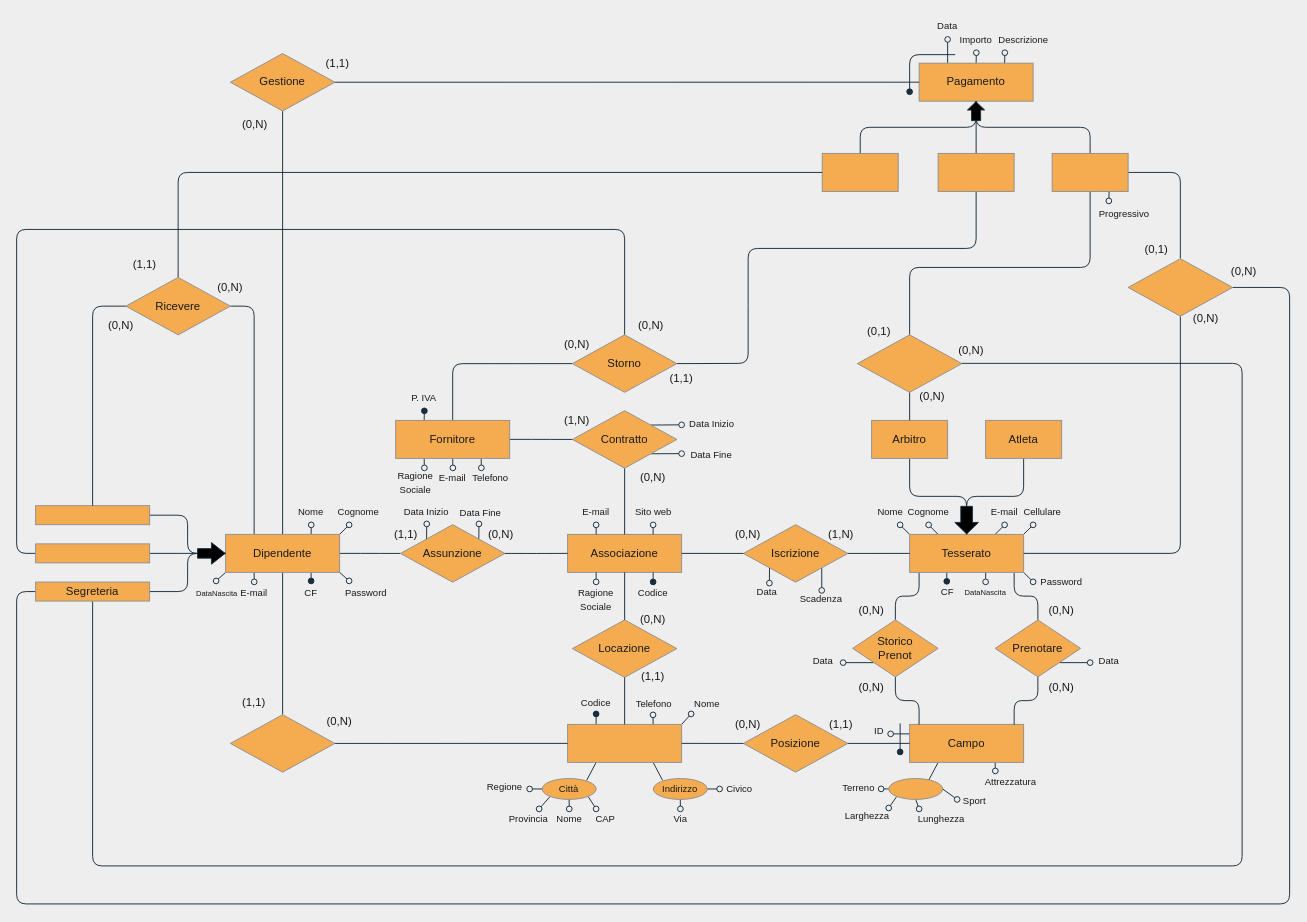
This 1307x922 diagram has some shape labels left out. Each missing label, with the centre of its shape:
Amministrazione: [92,515]
Compenso: [909,363]
Esborso: [975,171]
Fattura: [1089,171]
Postazione: [282,743]
Responsabile: [92,553]
Sede: [624,742]
Stipendio: [859,171]
Tariiffa: [1180,287]
Tipologia: [915,788]
